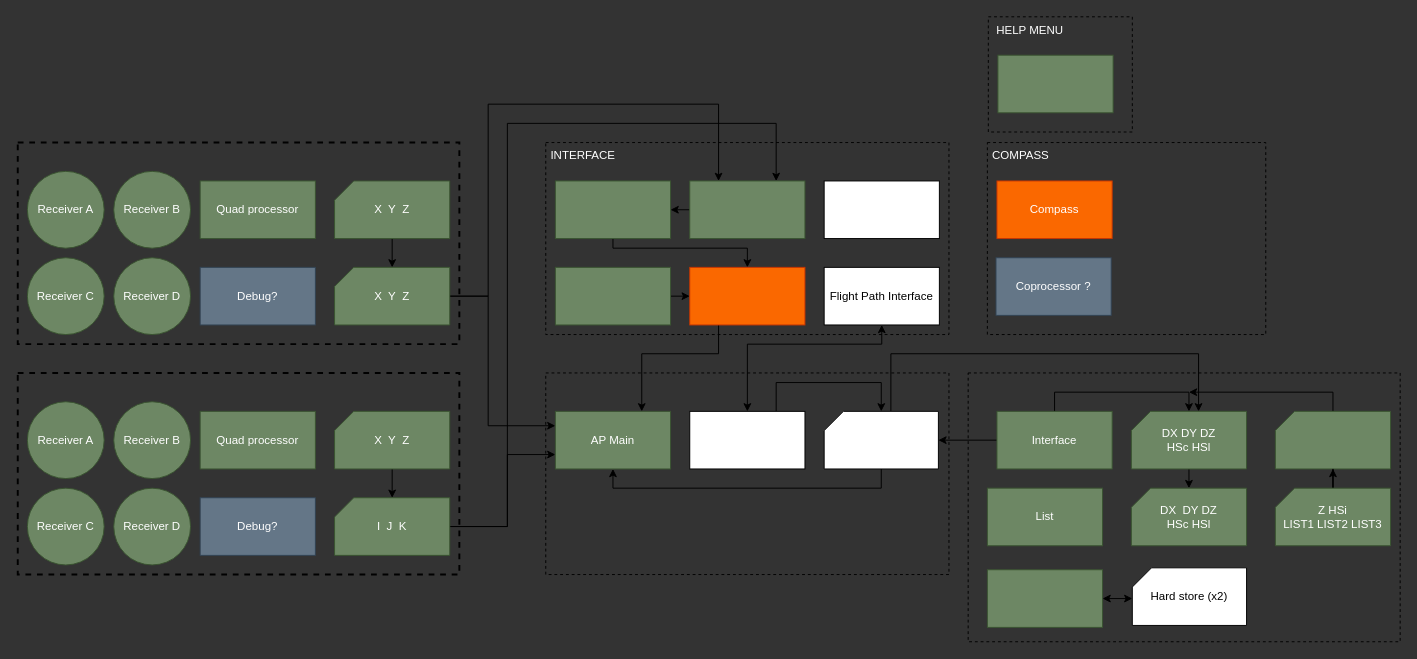
This 1417x659 diagram has some shape labels left out. The box of each missing label's shape, as (x1, y1, x2, y2) in pixels:
AUTOPILOT: (545, 372, 949, 575)
Command Interpreter: (689, 266, 805, 325)
DX DY DZ: (823, 410, 938, 469)
Endo Interface Device (EID): (554, 180, 671, 239)
Endo Interface Device 2 (EID2): (554, 266, 671, 325)
Flight Path Manager: (689, 410, 805, 469)
Help mgr: (997, 54, 1113, 113)
HS: (986, 569, 1103, 627)
HSo HSi LIST1 LIST2 LIST3: (1274, 410, 1391, 469)
ISANv2 QUAD (LEFT): (16, 372, 460, 575)
ISANv2 QUAD (RIGHT): (16, 141, 460, 345)
Main Display Driver (DD): (689, 180, 805, 239)
Special Waypoints: (823, 180, 939, 239)
WAYPOINT STORE: (967, 372, 1400, 642)
